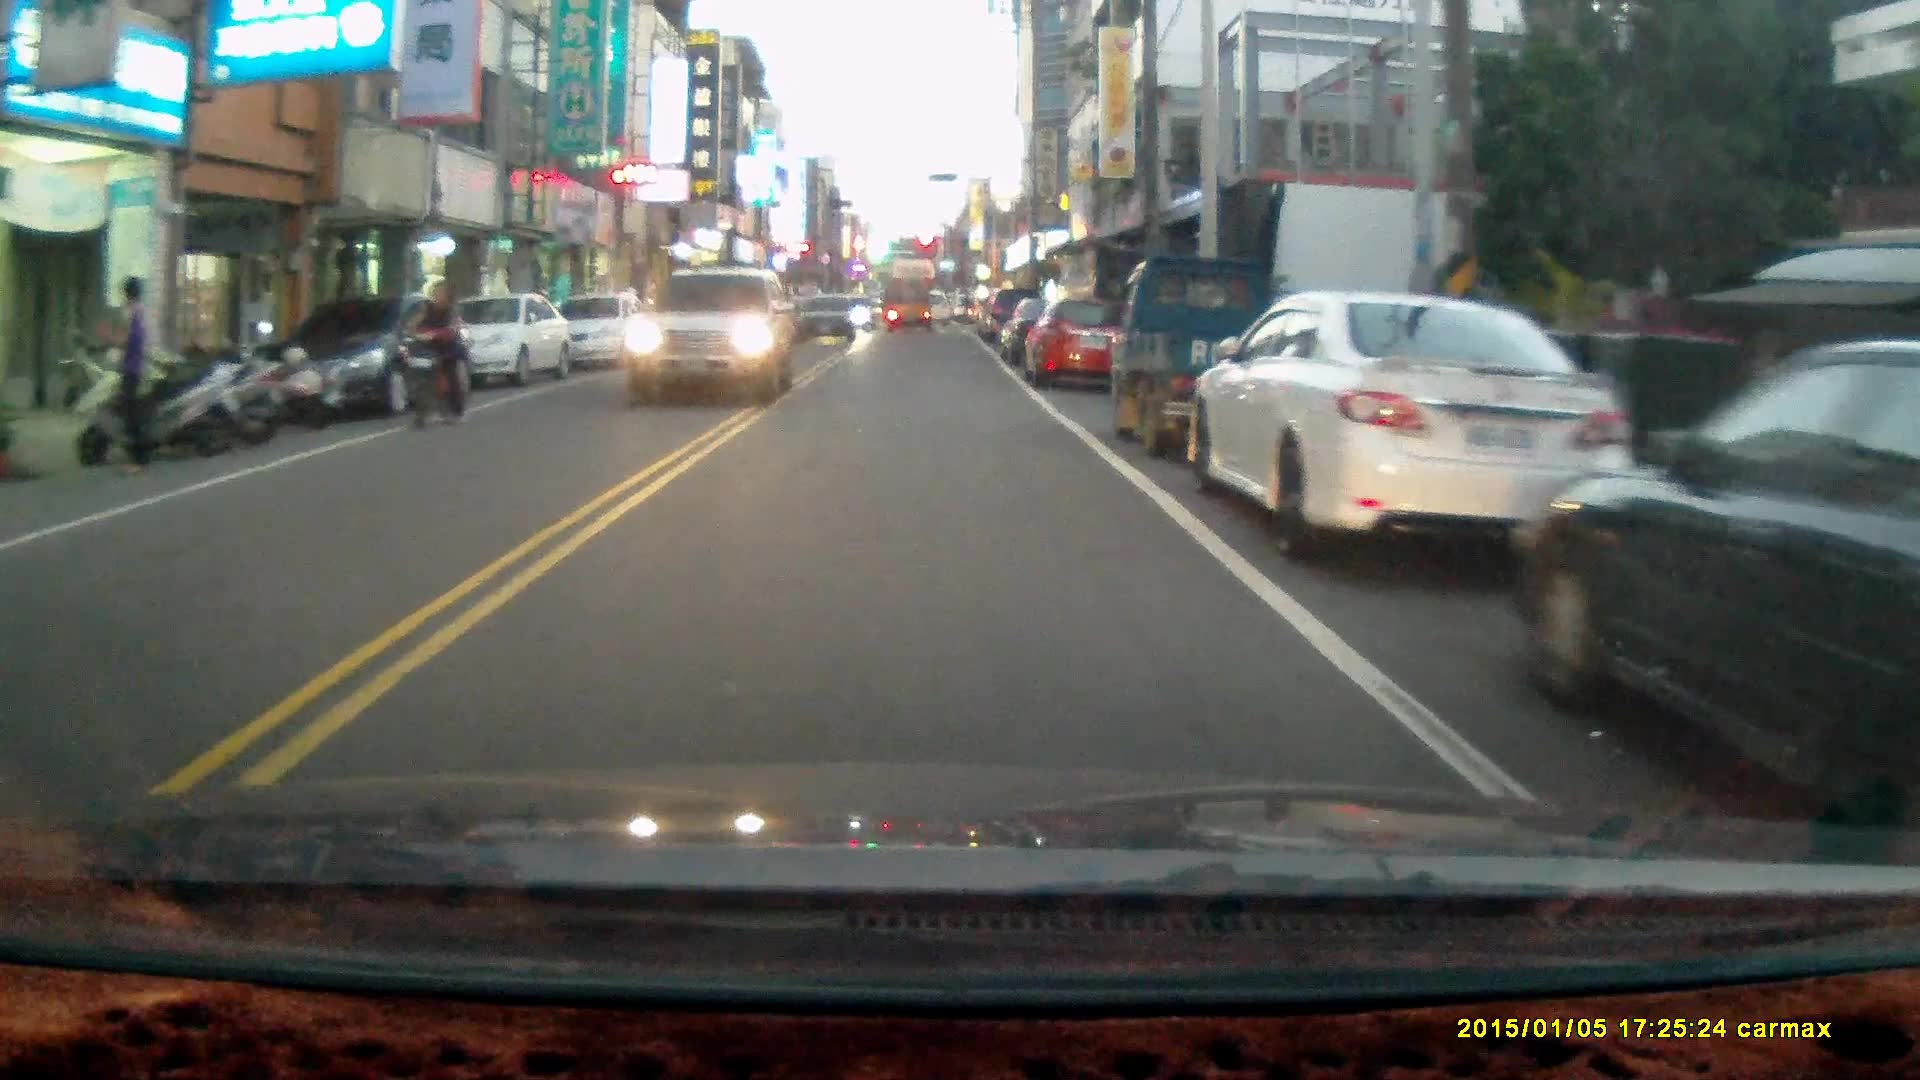pedestrian: (89, 272, 148, 479)
rider: (401, 275, 468, 428)
vehicle: (1525, 345, 1920, 855), (1186, 290, 1638, 565), (1110, 250, 1317, 464), (254, 285, 467, 415), (620, 266, 795, 409), (1027, 293, 1123, 392), (551, 296, 653, 373), (793, 294, 860, 346), (884, 277, 937, 334)
